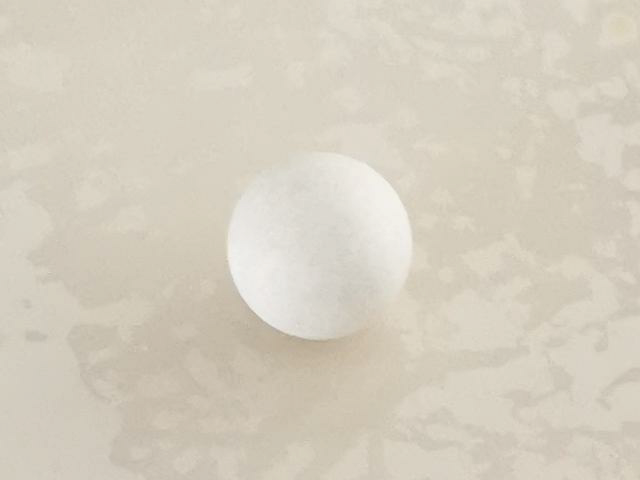ball: (227, 155, 414, 337)
